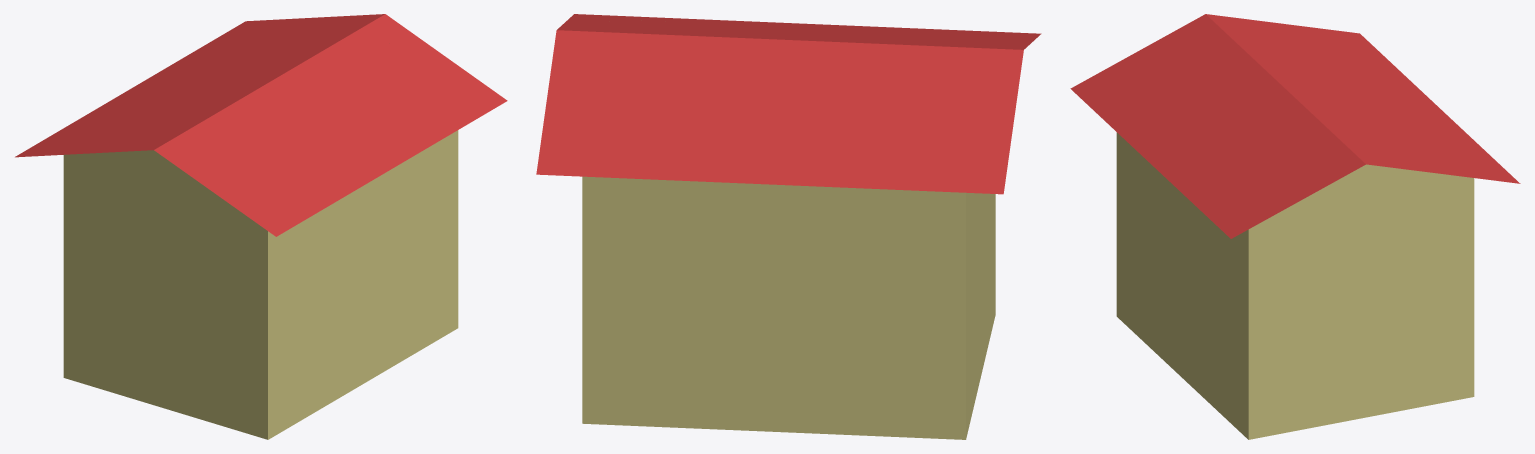
3 renders of one model, left to right at view 1: azimuth 30°, elevation 25°; view 2: azimuth 150°, elevation 25°; view 3: azimuth 270°, elevation 25°, orthographic. The views are drawn at different scales.
Size of the model in its own units: 10.45 by 9.67 by 6.38.
